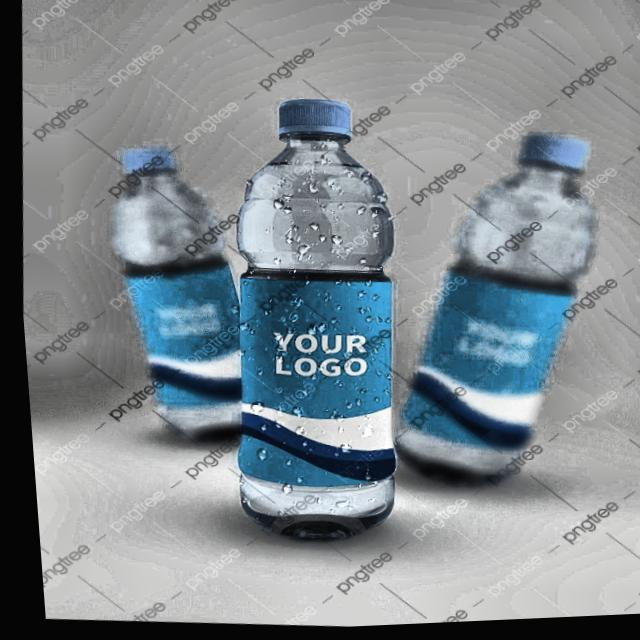Bottles: (184, 83, 442, 559)
